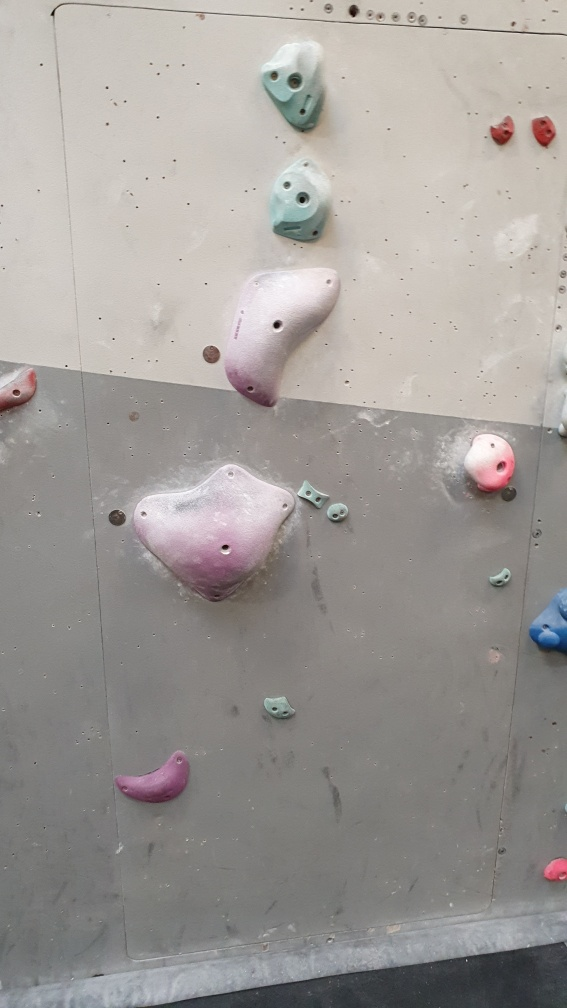Hand Start: (104, 506, 130, 532), (198, 340, 223, 367), (496, 486, 520, 504)
Jug: (262, 35, 333, 140), (267, 152, 337, 252)
Pinch: (293, 477, 331, 512), (486, 561, 517, 598)
Sloper: (526, 581, 567, 657)
